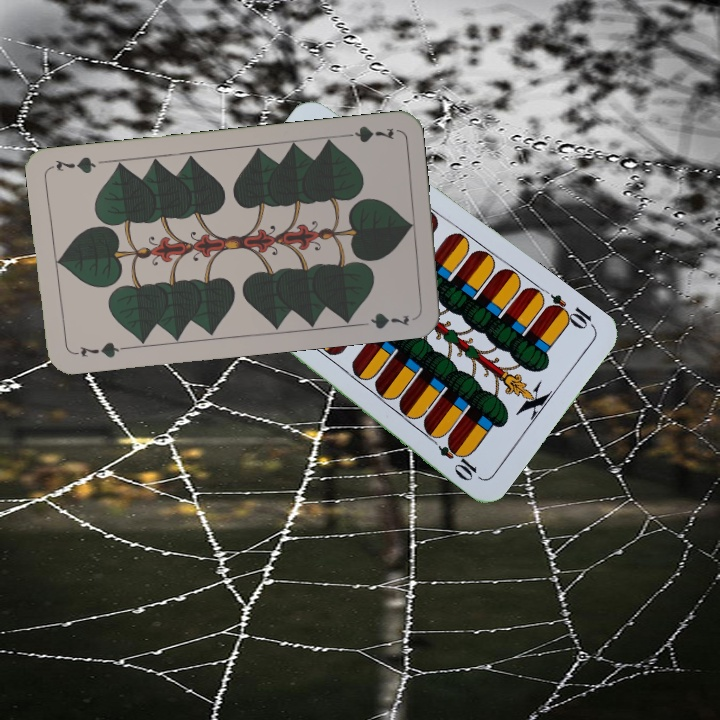E10: (542, 290, 598, 333)
G7: (338, 121, 397, 145), (69, 338, 128, 360)
